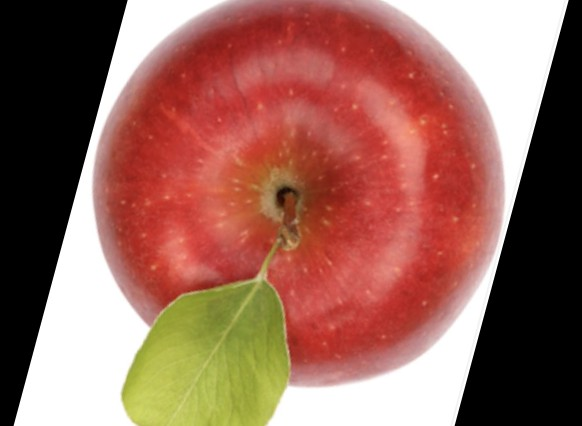fresh_apple: (95, 1, 504, 384)
